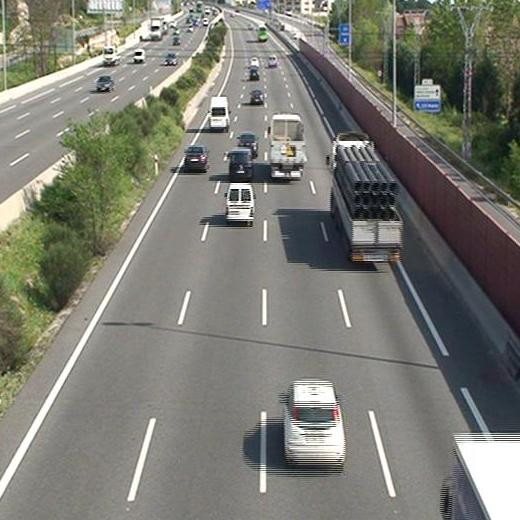car: (284, 380, 347, 462), (228, 148, 252, 179), (184, 145, 208, 171), (237, 134, 258, 152), (250, 90, 263, 104), (249, 68, 260, 78), (250, 57, 259, 65)
small-truck: (269, 113, 306, 178)
truck: (328, 133, 402, 263)
van: (225, 181, 254, 221), (209, 96, 230, 129), (268, 54, 277, 67)
